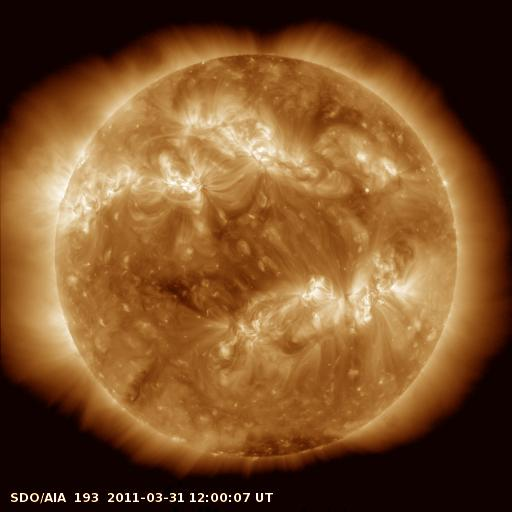coronal_hole: (218, 427, 347, 460), (153, 275, 211, 318)
